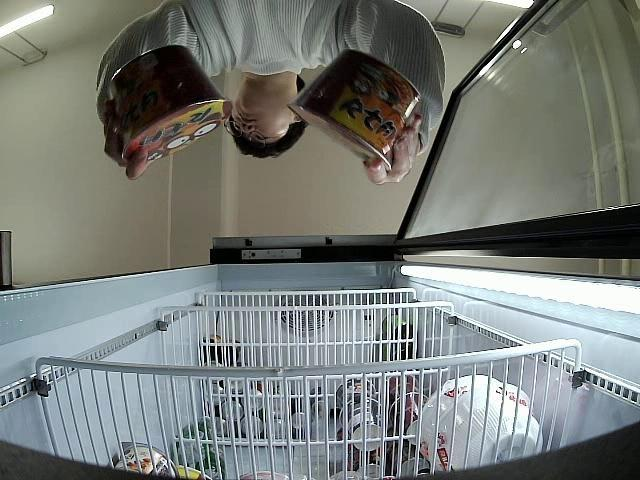05_nuguri_L: (106, 43, 235, 169), (292, 50, 421, 166)
